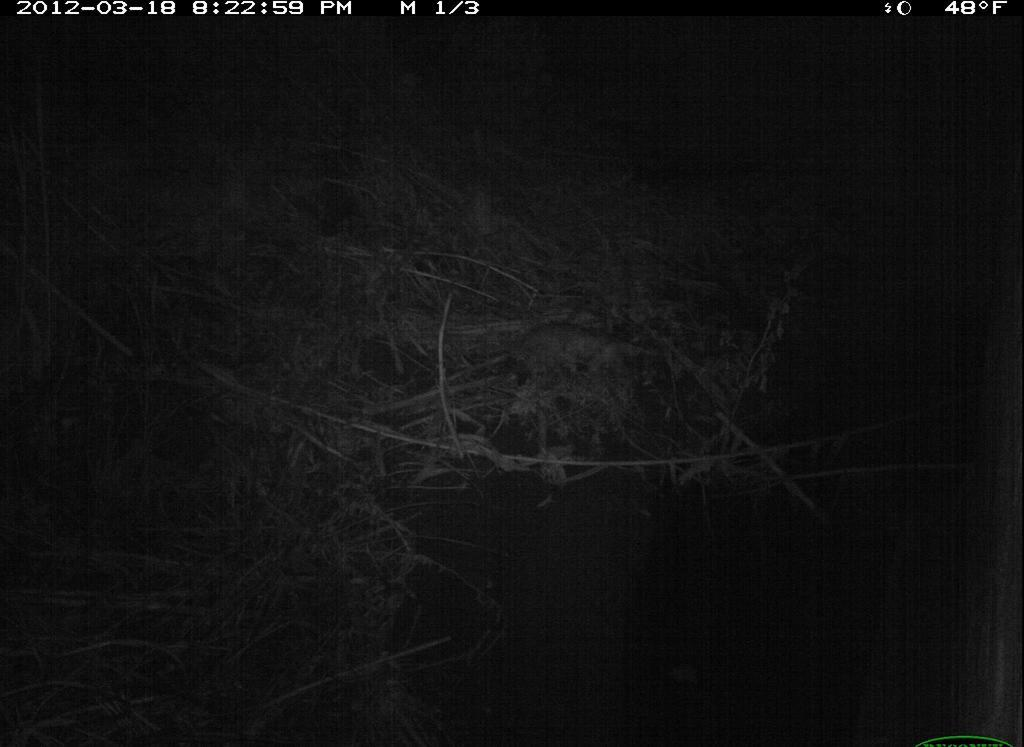opossum: (502, 314, 659, 394)
